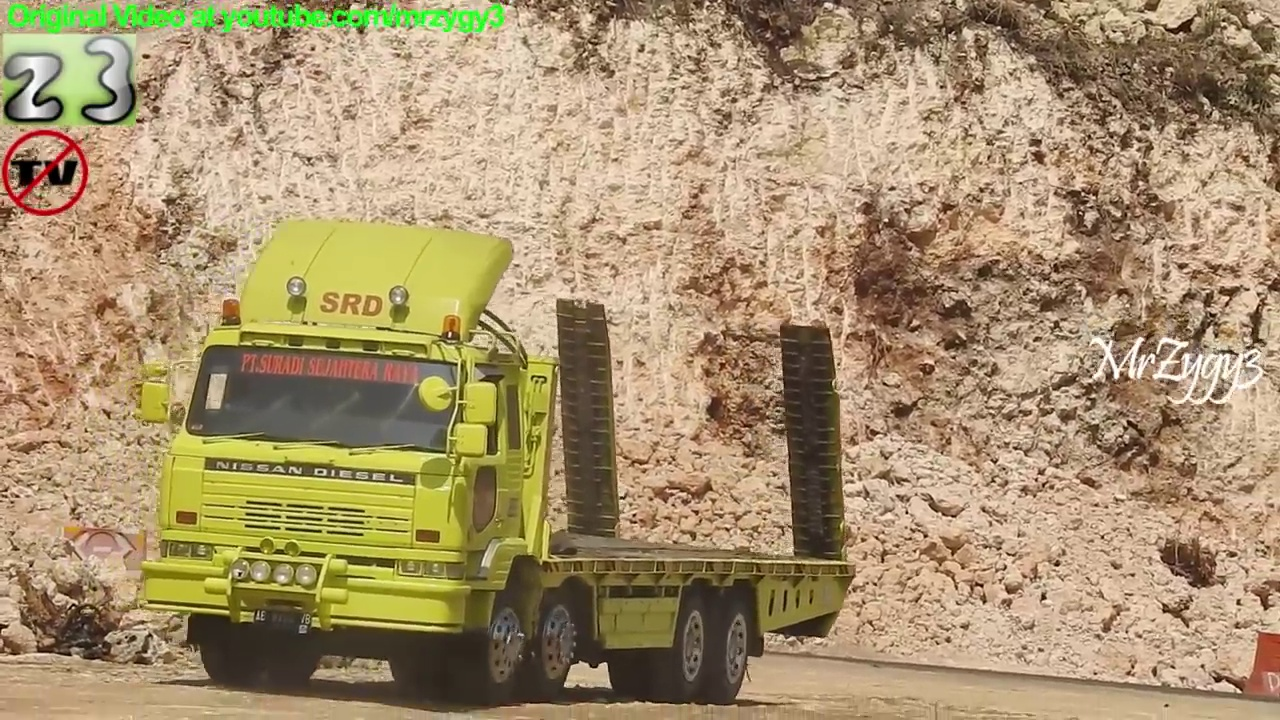truck: (129, 214, 864, 709)
